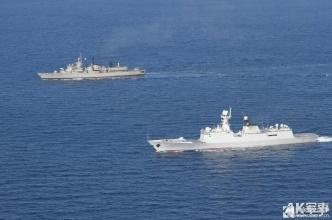warship: (148, 108, 319, 156), (35, 52, 149, 80)
